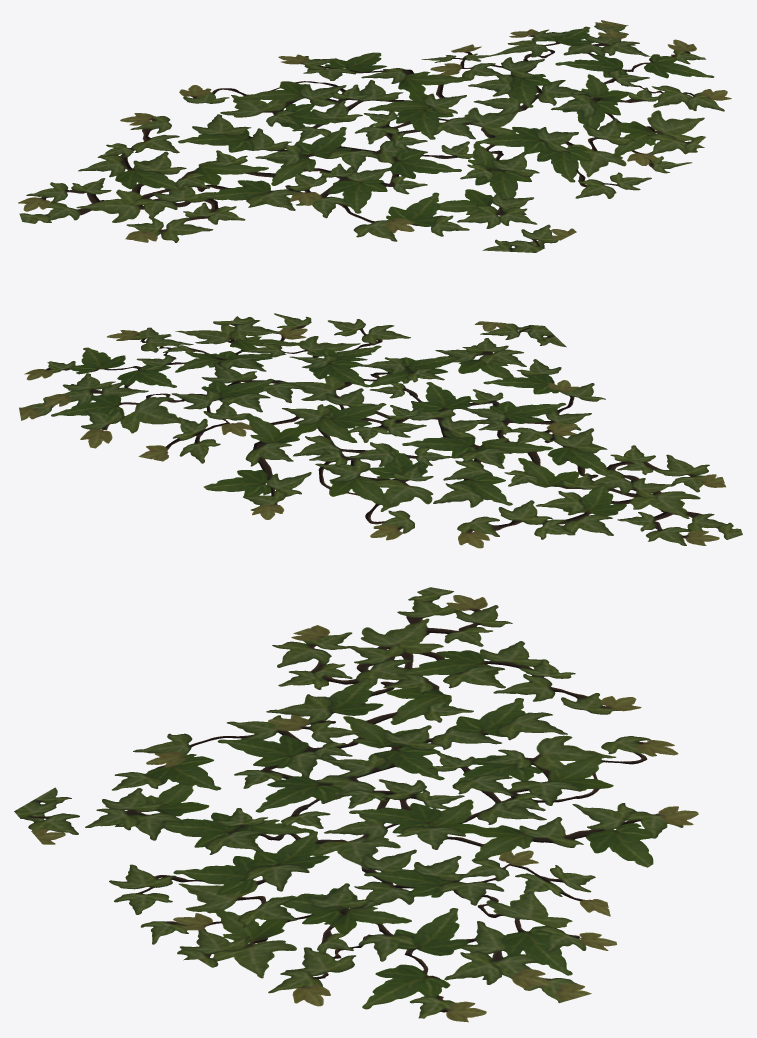
Rendered from fanasty_mod_ground_ivy.fbx.
3 views of the same model, one above another, from view 1: azimuth 30°, elevation 25°; view 2: azimuth 150°, elevation 25°; view 3: azimuth 270°, elevation 25° (orthographic). The views are drawn at different scales.
Parts seen in each view (by area): view 1: ground_ivy; view 2: ground_ivy; view 3: ground_ivy.
Boxes of the visible parts, bbox=[...] form: ground_ivy: bbox=[18, 20, 731, 252]; ground_ivy: bbox=[19, 313, 742, 548]; ground_ivy: bbox=[14, 587, 698, 1022].
Size of the model in its own units: 5.6 by 0.1477 by 3.95.
